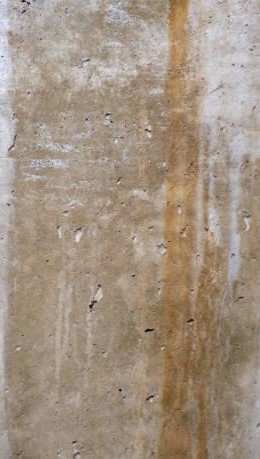Corrosion: (1, 1, 260, 459)
